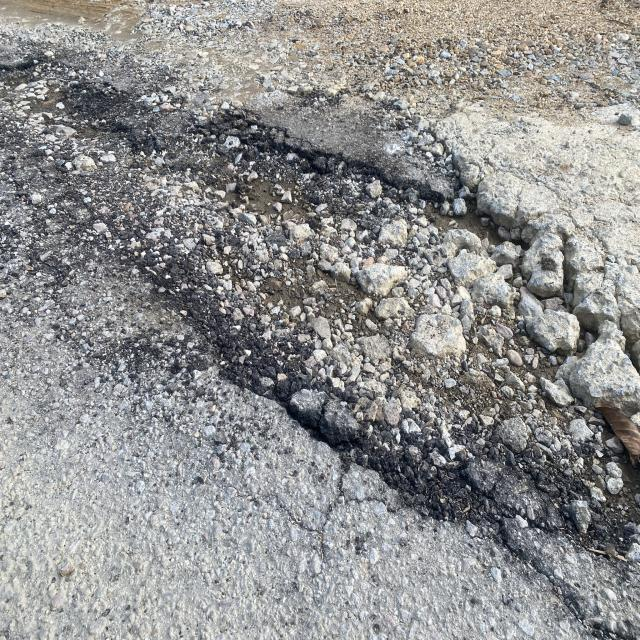pothole: (64, 42, 640, 634)
